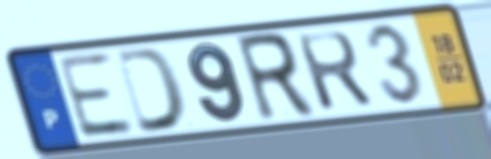3: (364, 20, 428, 109)
9: (185, 38, 249, 127)
D: (112, 44, 190, 136)
E: (53, 50, 139, 142)
R: (230, 29, 320, 126), (292, 28, 377, 114)
